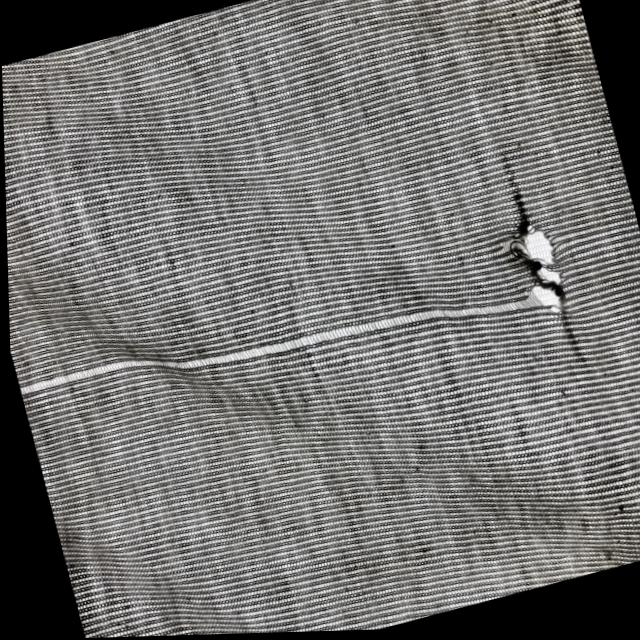Hole: (335, 494, 390, 544)
Stitch: (146, 4, 368, 569)
